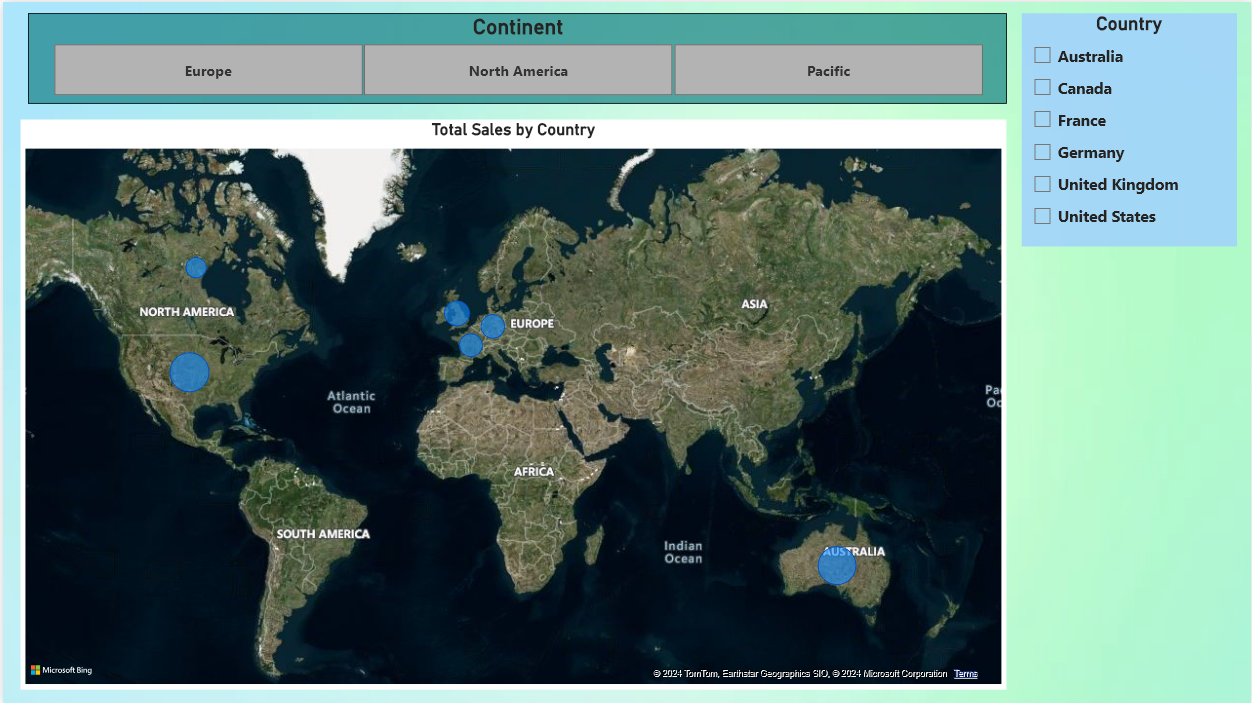

Layout of this report page (visuals, bound fields, positions):
{"tool":"powerbi","page":{"name":"Page 3","canvas":[1280,720],"ordinal":1},"visuals":[{"type":"map","title":"Total Sales by Country","fields":{"Category":["Territories.Continent","Territories.Country","Territories.Region"],"Size":["Sales.Total_sales"]},"box":[18.5,120.9,1011.2,584.5],"z":0},{"type":"slicer","title":"Continent","fields":{"Values":["Territories.Continent"]},"box":[25.6,11.4,1004.1,92.4],"z":1000},{"type":"slicer","title":"Country","fields":{"Values":["Territories.Country"]},"box":[1045.3,11.4,220.4,238.9],"z":2000}]}

Visuals, with their boxes in screenshot pixels (x1, y1, x2, y2), scaled from the page's 1280x720 canvas onto the 1252x703 screenshot:
"Total Sales by Country" map: region(18, 118, 1007, 689)
"Continent" slicer: region(25, 11, 1007, 101)
"Country" slicer: region(1022, 11, 1238, 244)
